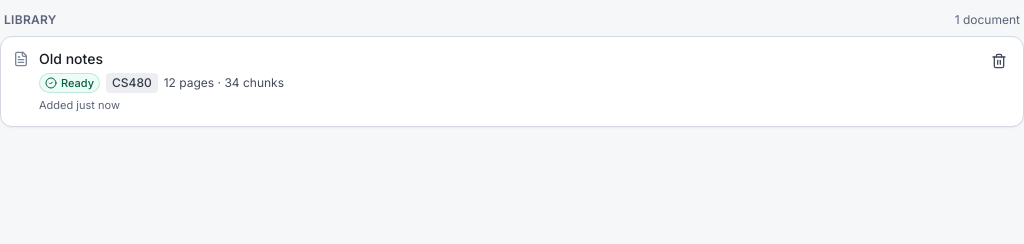
Test: DocumentList › shows delete failures inline
This screenshot has width=1024, height=244.
Click the button named "Delete Old notes".
click(999, 61)  # box [983, 45, 1015, 77]
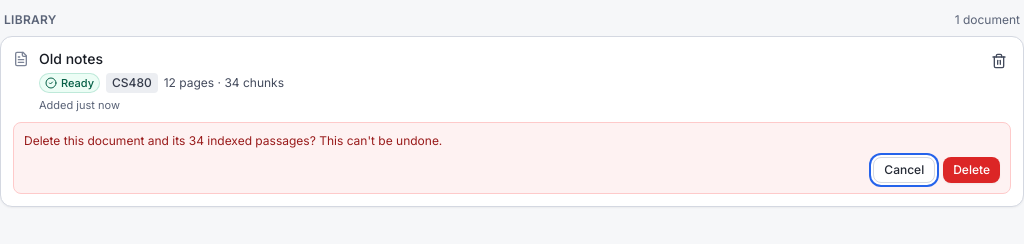
Click the button "Delete".
click(972, 170)  # box [943, 156, 1000, 182]
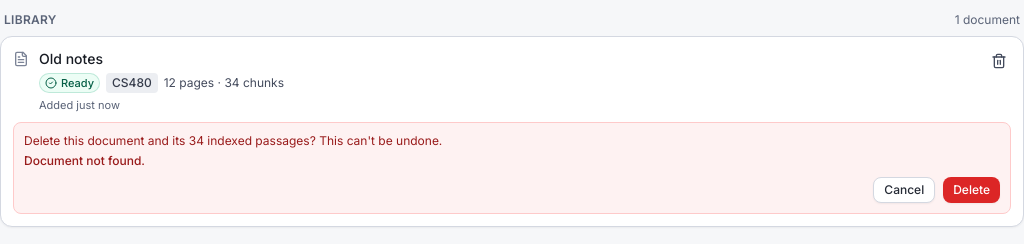
Now the message reads "Document not found.", box [24, 152, 145, 168]
